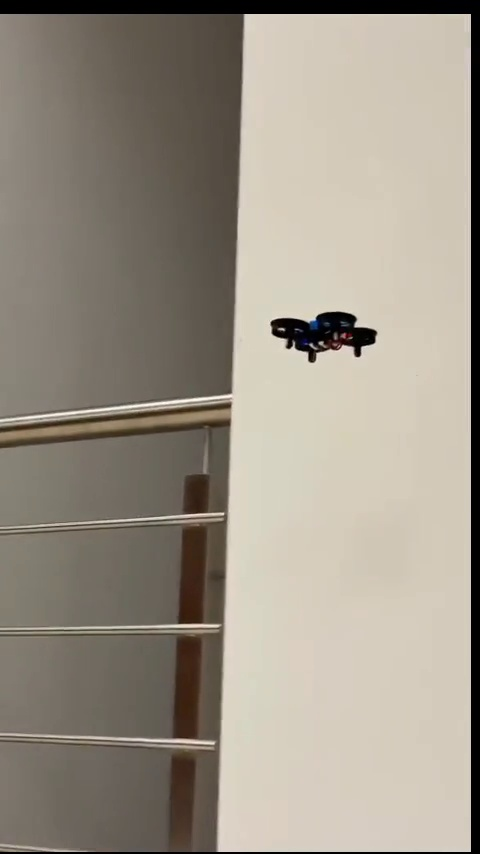drone: (267, 311, 374, 359)
